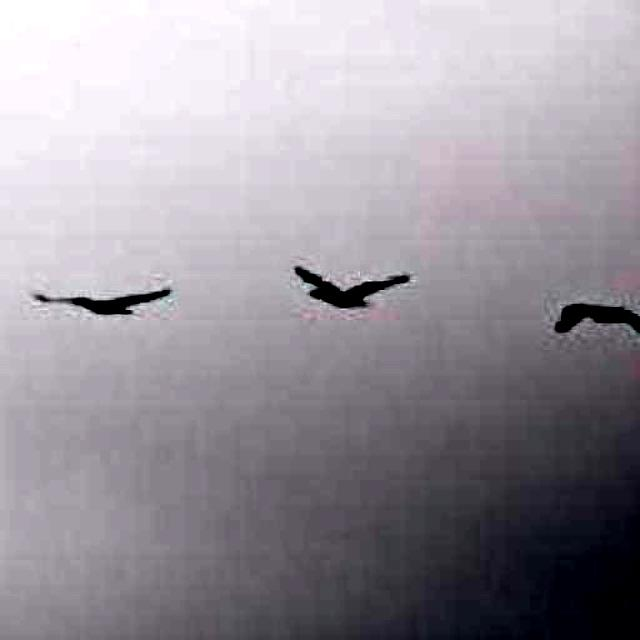airplane: (294, 264, 414, 314), (31, 285, 172, 321), (552, 302, 640, 341)
